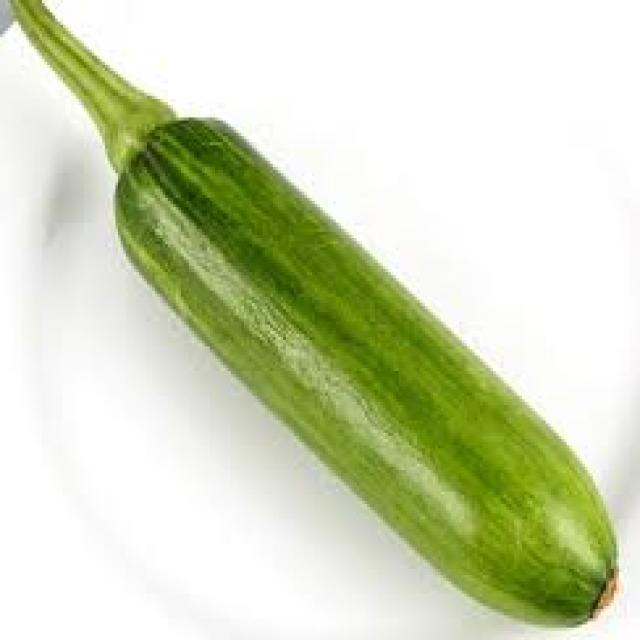zucchini: (82, 59, 638, 637)
